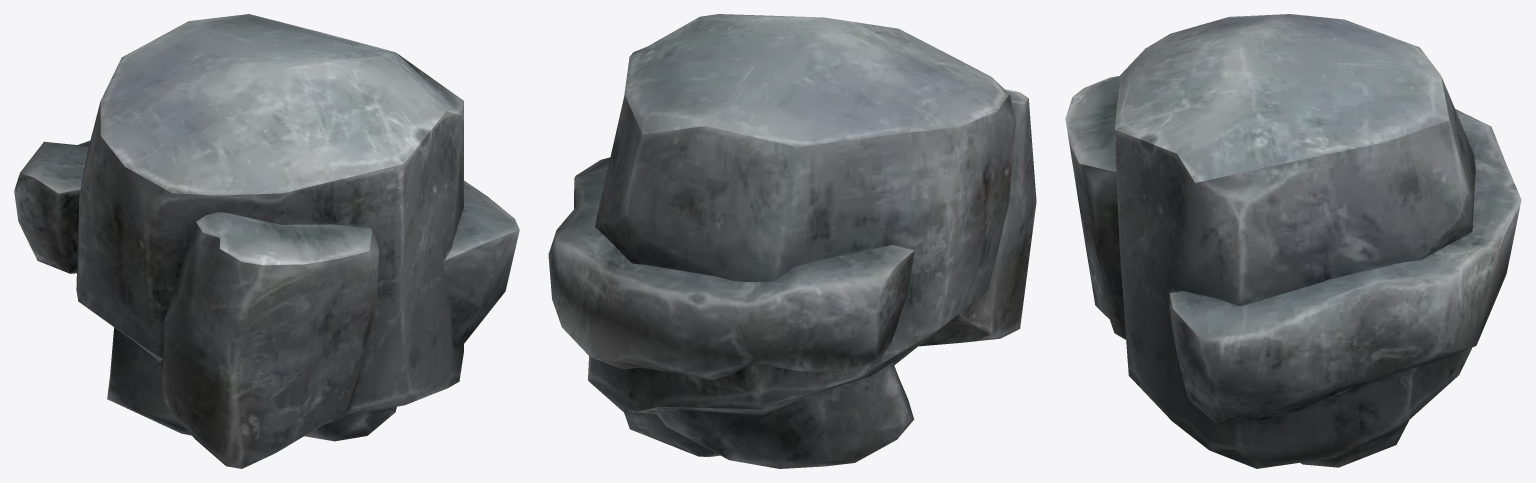
The picture shows the model from 3 angles, left to right: view 1: azimuth 30°, elevation 25°; view 2: azimuth 150°, elevation 25°; view 3: azimuth 270°, elevation 25°; orthographic projection. The views are drawn at different scales.
Visible parts, largest first — view 1: SM_Silver_Ore_Small_01_LOD0; view 2: SM_Silver_Ore_Small_01_LOD0; view 3: SM_Silver_Ore_Small_01_LOD0.
Part boxes in pixels (box(x1,y1,x2,y2)): SM_Silver_Ore_Small_01_LOD0: box(14, 14, 519, 468); SM_Silver_Ore_Small_01_LOD0: box(548, 14, 1036, 468); SM_Silver_Ore_Small_01_LOD0: box(1065, 14, 1521, 468).
Size of the model in its own units: 0.2491 by 0.2454 by 0.261.
1 material, 1 textured.
